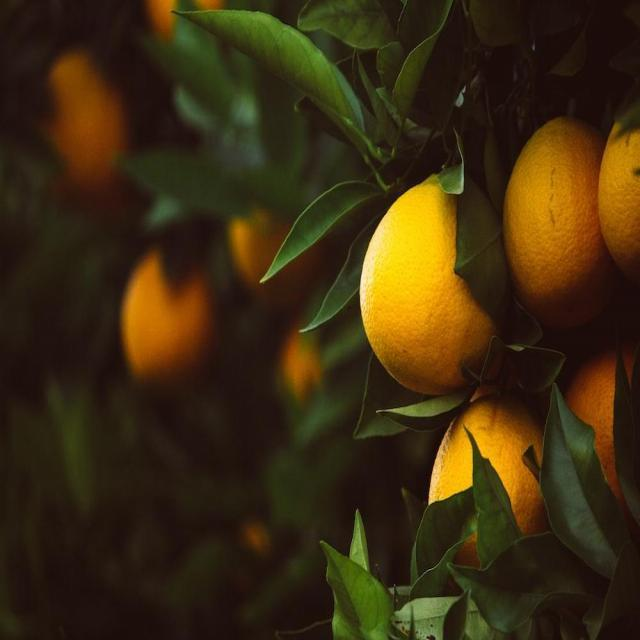Jeruk Sudah Matang: (360, 171, 524, 395), (504, 108, 632, 339), (426, 390, 564, 578), (121, 240, 212, 390), (572, 334, 640, 520), (601, 93, 640, 295)
